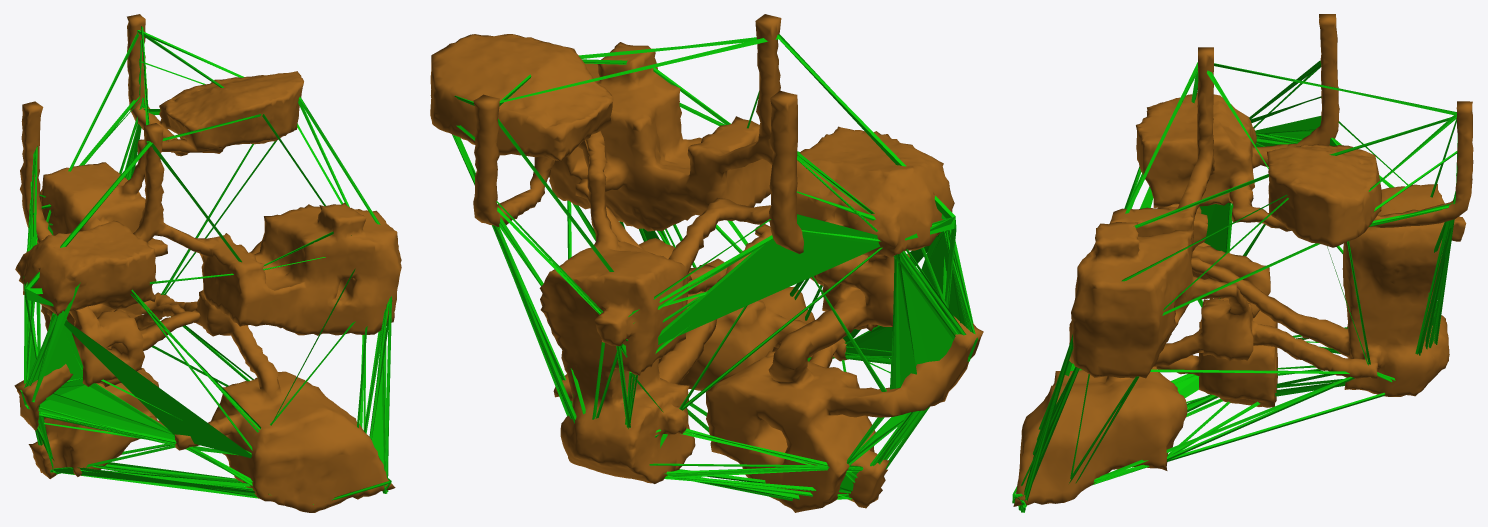
Rendered from slime test.fbx.
The picture shows the model from 3 angles, left to right: view 1: azimuth 30°, elevation 25°; view 2: azimuth 150°, elevation 25°; view 3: azimuth 270°, elevation 25°; orthographic projection. The views are drawn at different scales.
Parts seen in each view (by area): view 1: mappa, Scimmia; view 2: mappa, Scimmia; view 3: mappa, Scimmia.
Boxes of the visible parts, box(x1,y1,x2,y2) form: mappa: box(14, 14, 401, 512); Scimmia: box(20, 26, 392, 504); mappa: box(430, 14, 983, 512); Scimmia: box(452, 34, 977, 500); mappa: box(1013, 14, 1473, 506); Scimmia: box(1012, 60, 1457, 512).
Bounding box in the file's own units: 11965 × 11393 × 12379.
